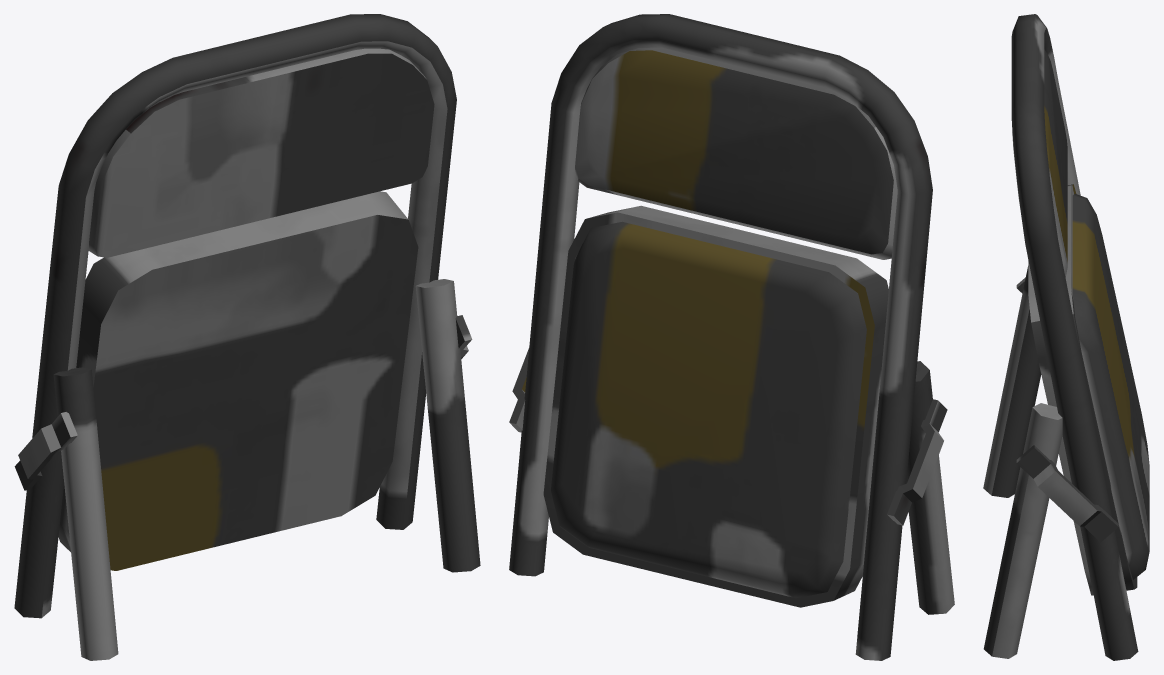
File: Pfb_Chair__10.fbx
3 renders of one model, left to right at view 1: azimuth 30°, elevation 25°; view 2: azimuth 150°, elevation 25°; view 3: azimuth 270°, elevation 25°, orthographic. The views are drawn at different scales.
Visible parts, largest first — view 1: Mat_Chair_02 5; view 2: Mat_Chair_02 5; view 3: Mat_Chair_02 5.
Boxes of the visible parts, bbox=[...] form: Mat_Chair_02 5: bbox=[14, 14, 480, 660]; Mat_Chair_02 5: bbox=[509, 14, 954, 660]; Mat_Chair_02 5: bbox=[983, 14, 1149, 660].
Size of the model in its own units: 0.9052 by 1.17 by 0.3434.
1 material, 1 textured.
